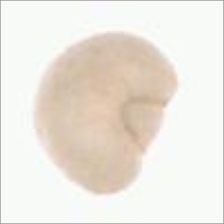L5: (118, 96, 166, 153), (32, 59, 57, 136)
L6: (31, 29, 180, 197)
